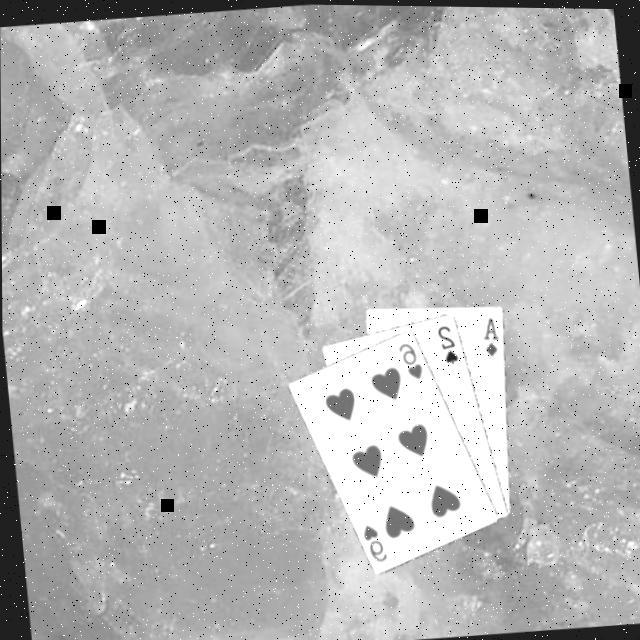2S: (432, 321, 459, 369)
6H: (356, 520, 388, 566), (393, 339, 425, 383)
AD: (477, 314, 501, 360)
